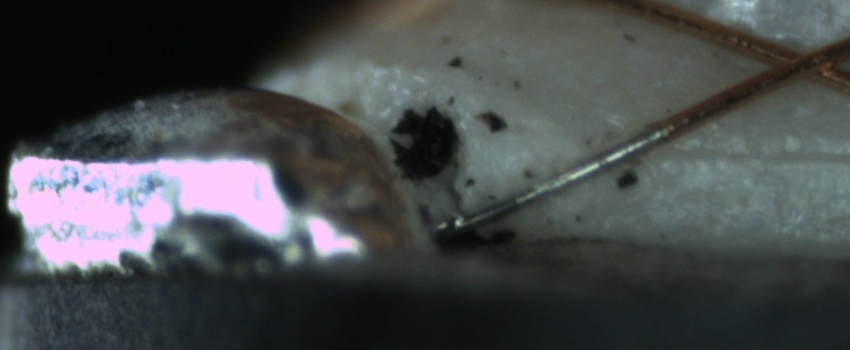CL: (752, 32, 844, 88)
DL: (648, 126, 850, 190)
TS: (432, 121, 668, 241)
